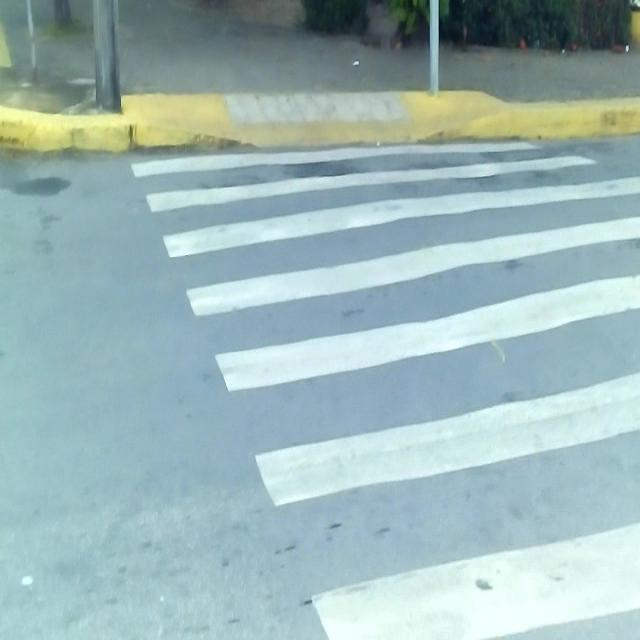crosswalk: (126, 139, 640, 640)
